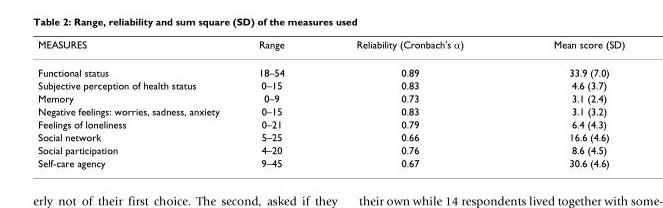table: (37, 37, 624, 168)
table column: (37, 37, 238, 168), (319, 37, 507, 168), (507, 37, 624, 168), (238, 37, 319, 168)
table column header: (37, 37, 624, 58)
table row: (37, 37, 624, 58), (37, 58, 624, 78), (37, 78, 624, 91), (37, 91, 624, 104), (37, 104, 624, 117), (37, 117, 624, 130), (37, 130, 624, 143), (37, 143, 624, 156), (37, 156, 624, 168)
